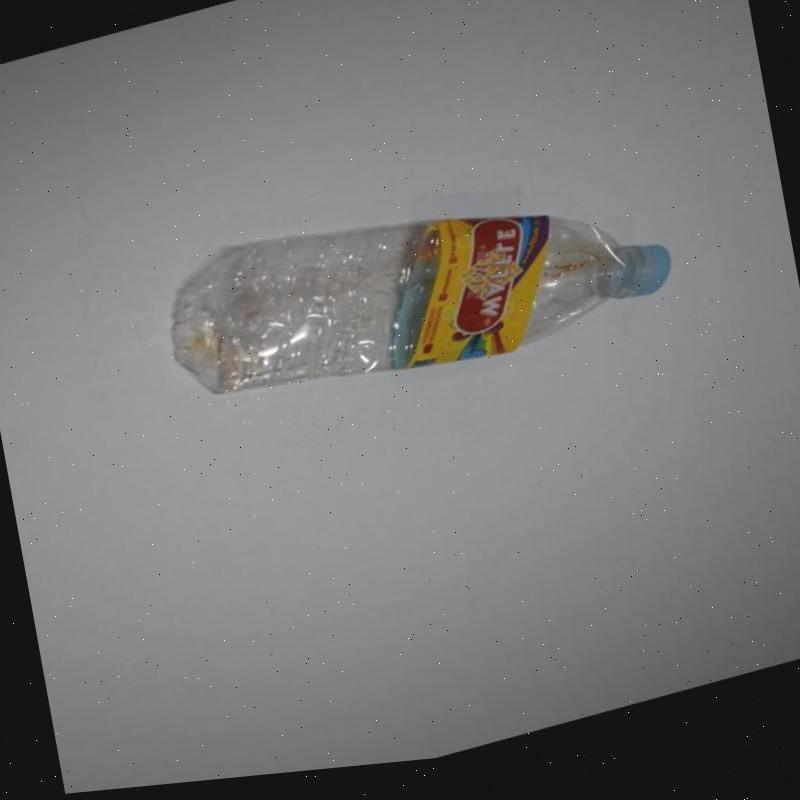botella: (156, 138, 684, 448)
